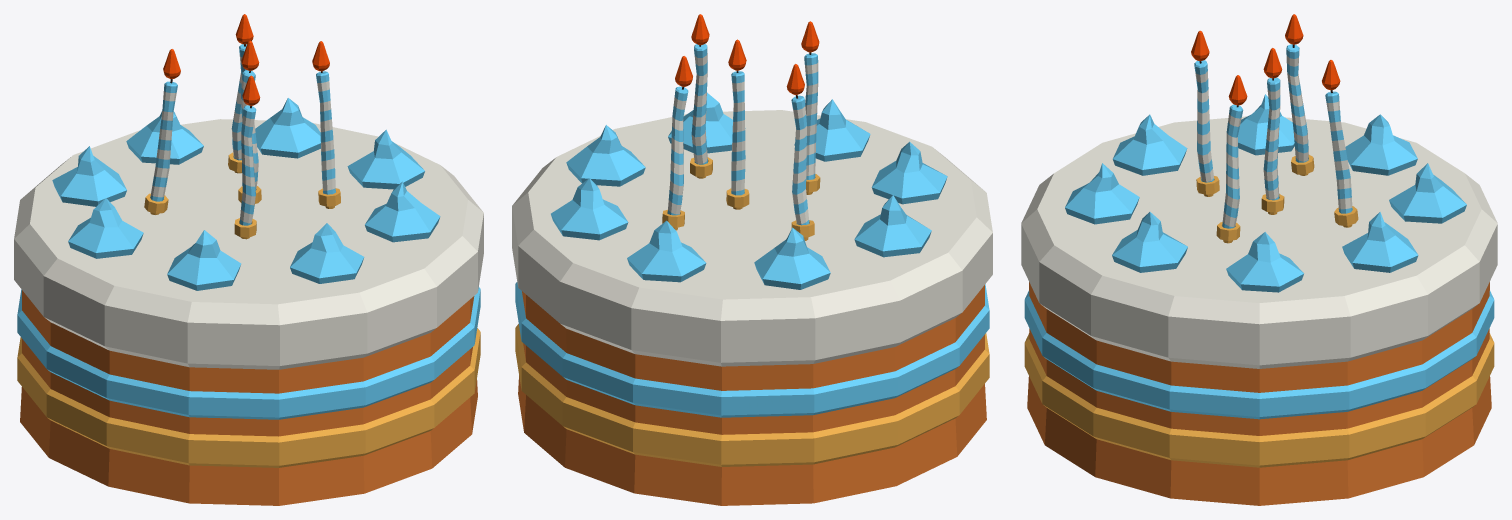
3 views of the same model, side by side, from view 1: azimuth 30°, elevation 25°; view 2: azimuth 150°, elevation 25°; view 3: azimuth 270°, elevation 25° (orthographic). The views are drawn at different scales.
Visible parts, largest first — view 1: Cake1, polySurface6, polySurface4, polySurface7, polySurface1, polySurface5, polySurface2, polySurface3, polySurface8, pCylinder12, pCylinder13, pCylinder11 (+2 smaller); view 2: Cake1, polySurface5, polySurface8, polySurface2, polySurface6, polySurface4, polySurface3, polySurface7, pCylinder15, pCylinder12, pCylinder14, pCylinder13 (+2 smaller); view 3: Cake1, polySurface3, polySurface2, polySurface1, polySurface6, polySurface7, polySurface5, polySurface8, pCylinder13, pCylinder14, pCylinder15, pCylinder11 (+2 smaller).
Boxes of the visible parts, <box> form: Cake1: <box>14,119,483,505</box>; polySurface6: <box>167,230,241,290</box>; polySurface4: <box>68,198,143,258</box>; polySurface7: <box>290,223,364,283</box>; polySurface1: <box>365,181,440,242</box>; polySurface5: <box>255,98,320,158</box>; polySurface2: <box>52,146,126,206</box>; polySurface3: <box>347,129,424,189</box>; polySurface8: <box>126,111,203,164</box>; pCylinder12: <box>144,79,177,214</box>; pCylinder13: <box>316,71,340,208</box>; pCylinder11: <box>234,105,256,239</box>; Cake1: <box>512,110,992,505</box>; polySurface5: <box>551,178,628,240</box>; polySurface8: <box>627,220,706,282</box>; polySurface2: <box>754,227,830,289</box>; polySurface6: <box>871,141,947,204</box>; polySurface4: <box>854,195,931,257</box>; polySurface3: <box>566,125,645,186</box>; polySurface7: <box>794,99,870,161</box>; pCylinder15: <box>726,70,749,209</box>; pCylinder12: <box>791,95,814,240</box>; pCylinder14: <box>662,86,688,230</box>; pCylinder13: <box>690,44,712,178</box>; Cake1: <box>1021,116,1497,505</box>; polySurface3: <box>1226,232,1303,292</box>; polySurface2: <box>1345,114,1417,175</box>; polySurface1: <box>1112,212,1187,272</box>; polySurface6: <box>1112,114,1187,175</box>; polySurface7: <box>1065,163,1139,224</box>; polySurface5: <box>1342,212,1418,272</box>; polySurface8: <box>1389,163,1466,223</box>; pCylinder13: <box>1216,104,1243,243</box>; pCylinder14: <box>1325,90,1358,227</box>; pCylinder15: <box>1261,77,1284,214</box>; pCylinder11: <box>1194,60,1219,196</box>.
Bounding box in the file's own units: 2 × 1.69 × 2.
